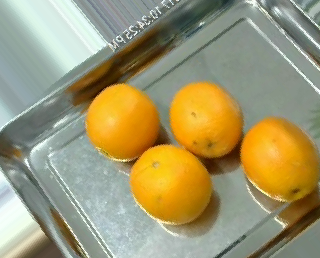Orange: (240, 115, 320, 203), (129, 143, 212, 223), (84, 82, 159, 163), (168, 80, 244, 159)
